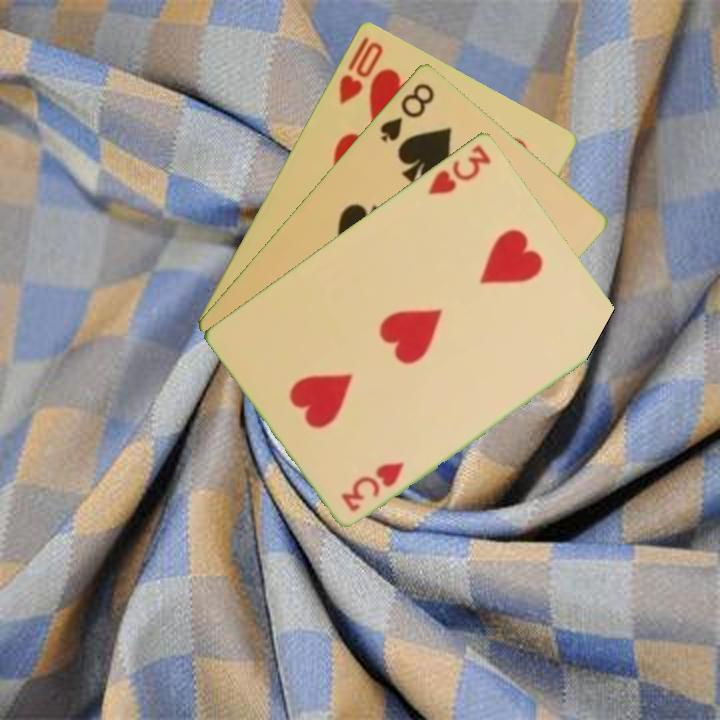10h: (335, 33, 386, 107)
3h: (337, 457, 408, 514), (424, 141, 495, 197)
8s: (376, 79, 438, 145)
